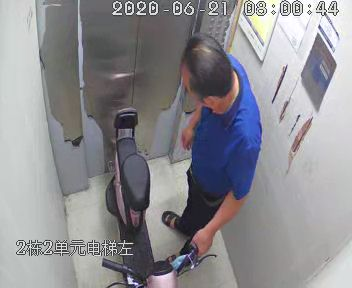Electric-bicycle: (101, 106, 213, 288)
